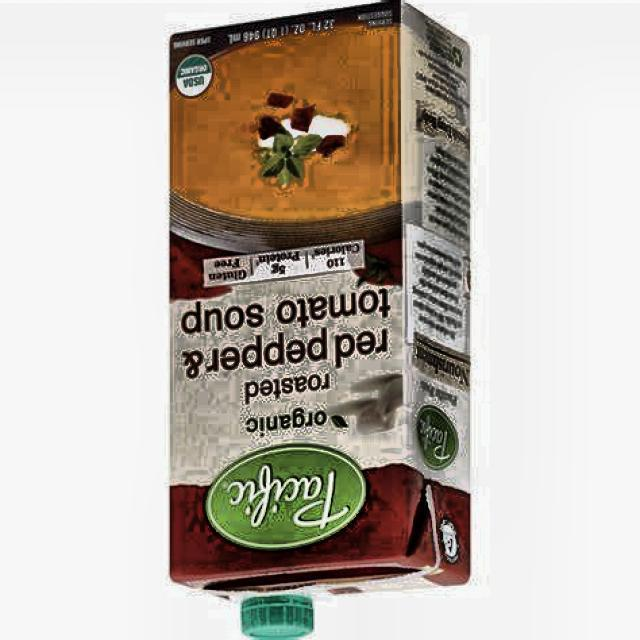cardboard: (167, 1, 474, 612)
